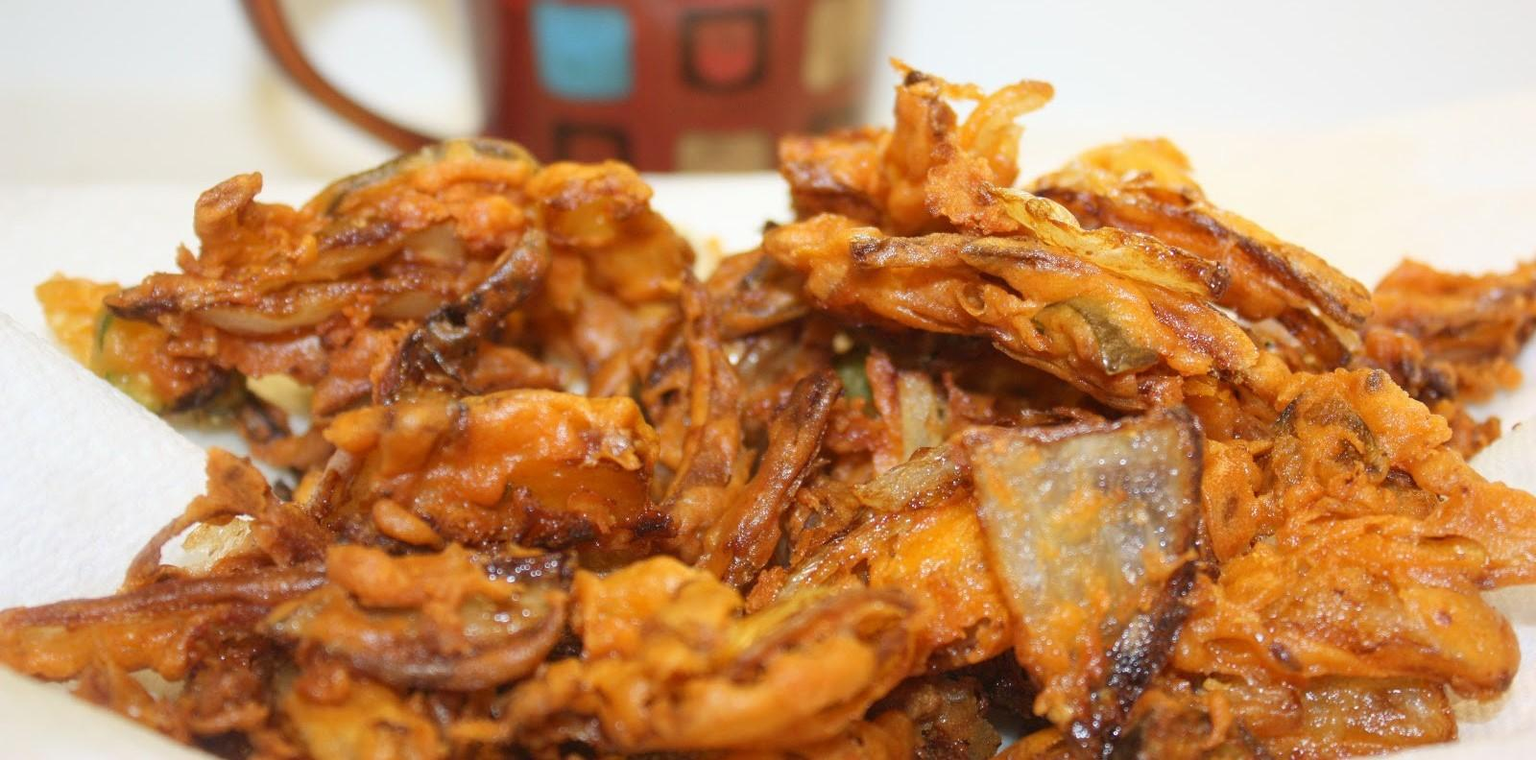OnionPakoda: (0, 53, 1536, 760)
